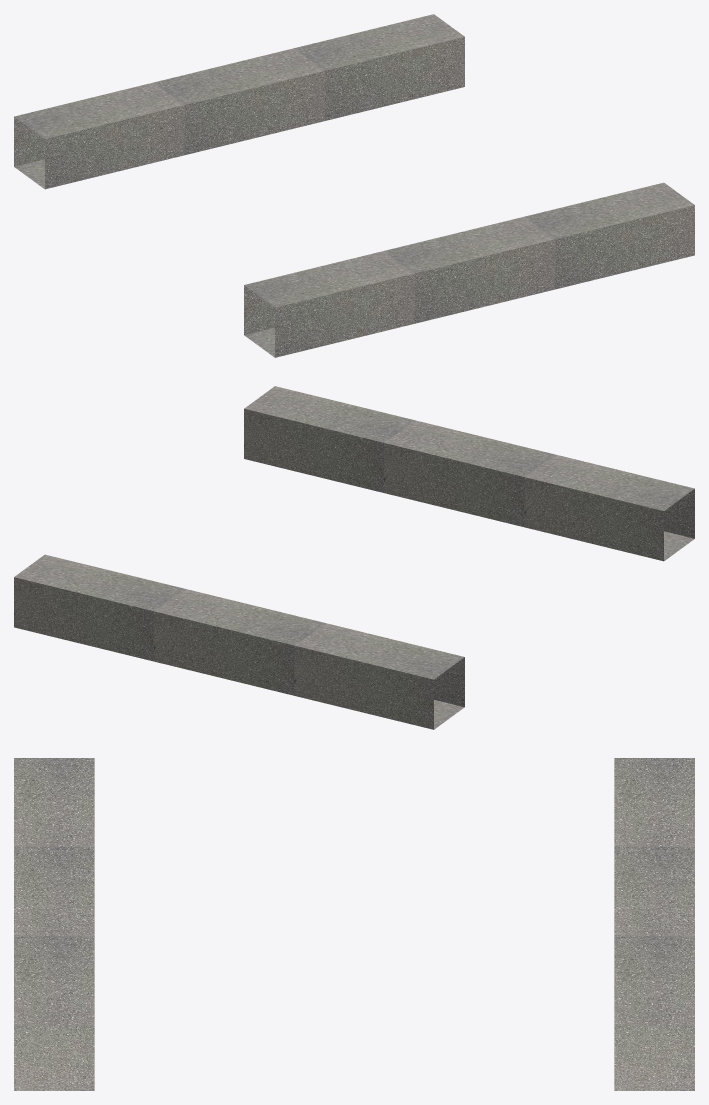
File: veredacentralrecta.fbx
3 views of the same model, one above another, from view 1: azimuth 30°, elevation 25°; view 2: azimuth 150°, elevation 25°; view 3: azimuth 270°, elevation 25° (orthographic). The views are drawn at different scales.
Parts seen in each view (by area): view 1: pCube4, pCube8; view 2: pCube4, pCube8; view 3: pCube4, pCube8.
Boxes of the visible parts, left/top/right/bottom form: pCube4: left=14, top=14, right=464, bottom=189; pCube8: left=244, top=182, right=694, bottom=357; pCube4: left=14, top=554, right=464, bottom=729; pCube8: left=244, top=386, right=694, bottom=561; pCube4: left=614, top=758, right=694, bottom=1090; pCube8: left=14, top=758, right=94, bottom=1090.
Size of the model in its own units: 5.05 by 0.5776 by 5.44.
